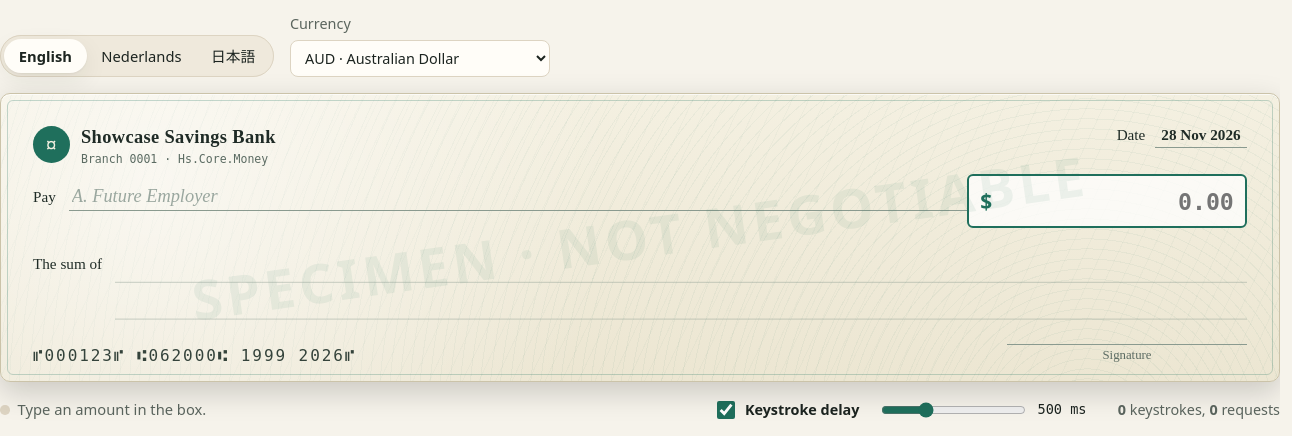
it: Cheque › cleans what is typed, and allows no fraction of a yen
Type "a1b2.345" into the field named "amount in figures" at x=1116, y=201, box [998, 184, 1234, 218]
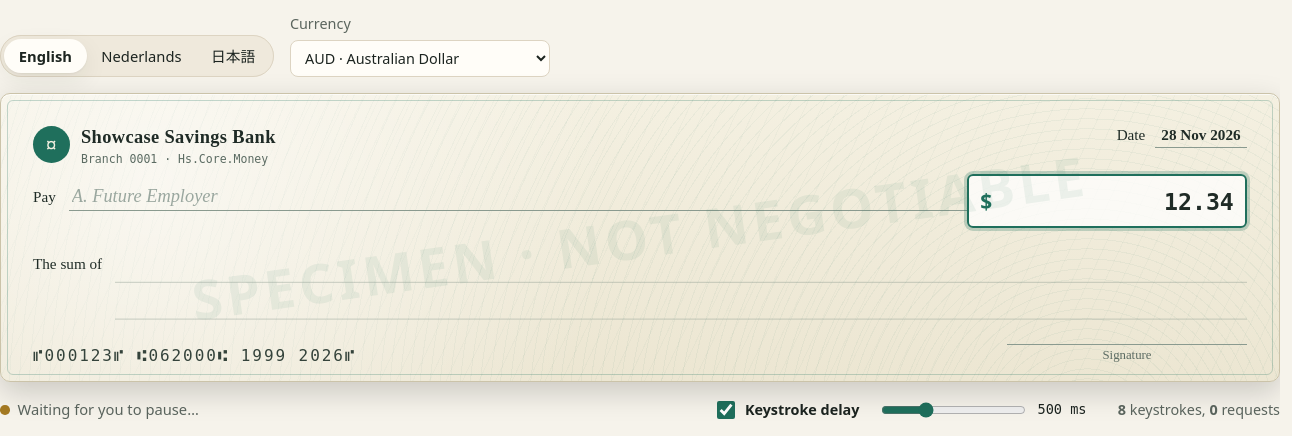
Check: the field named "amount in figures" holds "12.34", box [998, 184, 1234, 218]
Select "JPY · Yen" in the dropdown labelled "Currency" at x=420, y=58, box [290, 40, 550, 77]
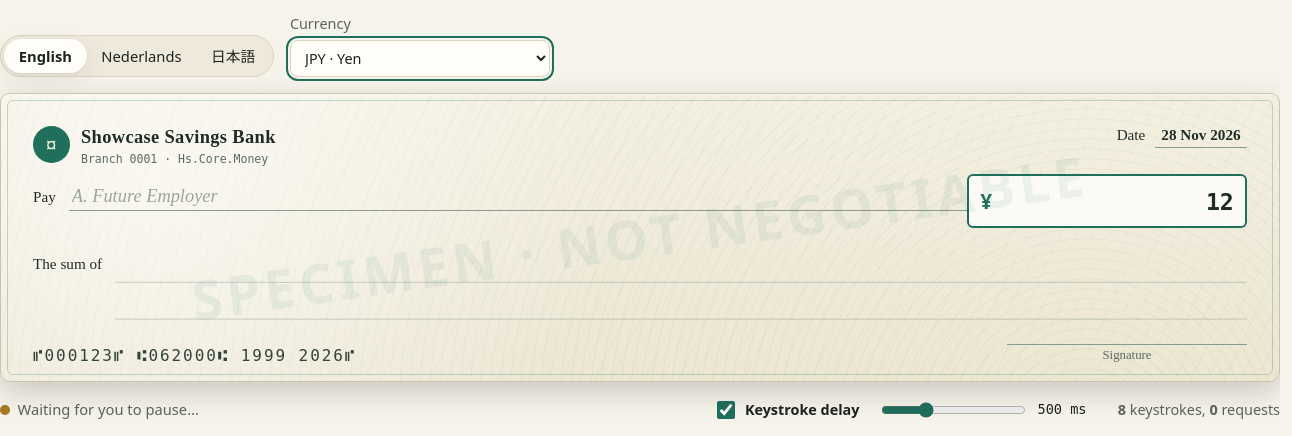
Check: the field named "amount in figures" holds "12", box [998, 184, 1234, 218]
